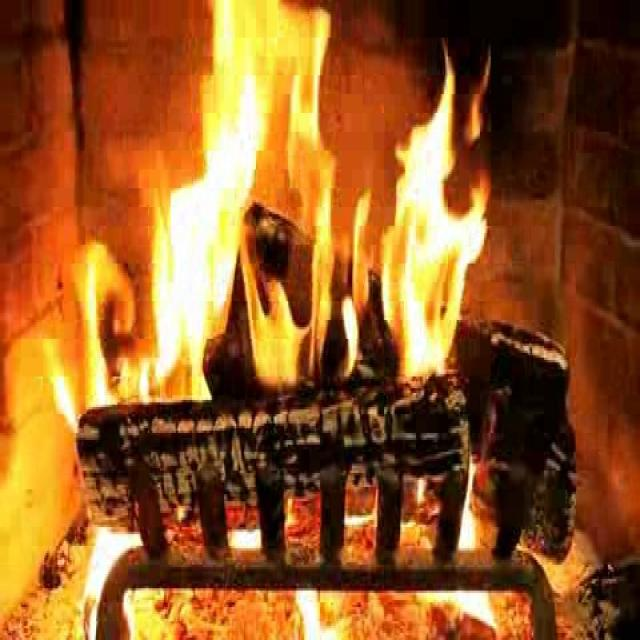fire: (199, 12, 482, 394)
